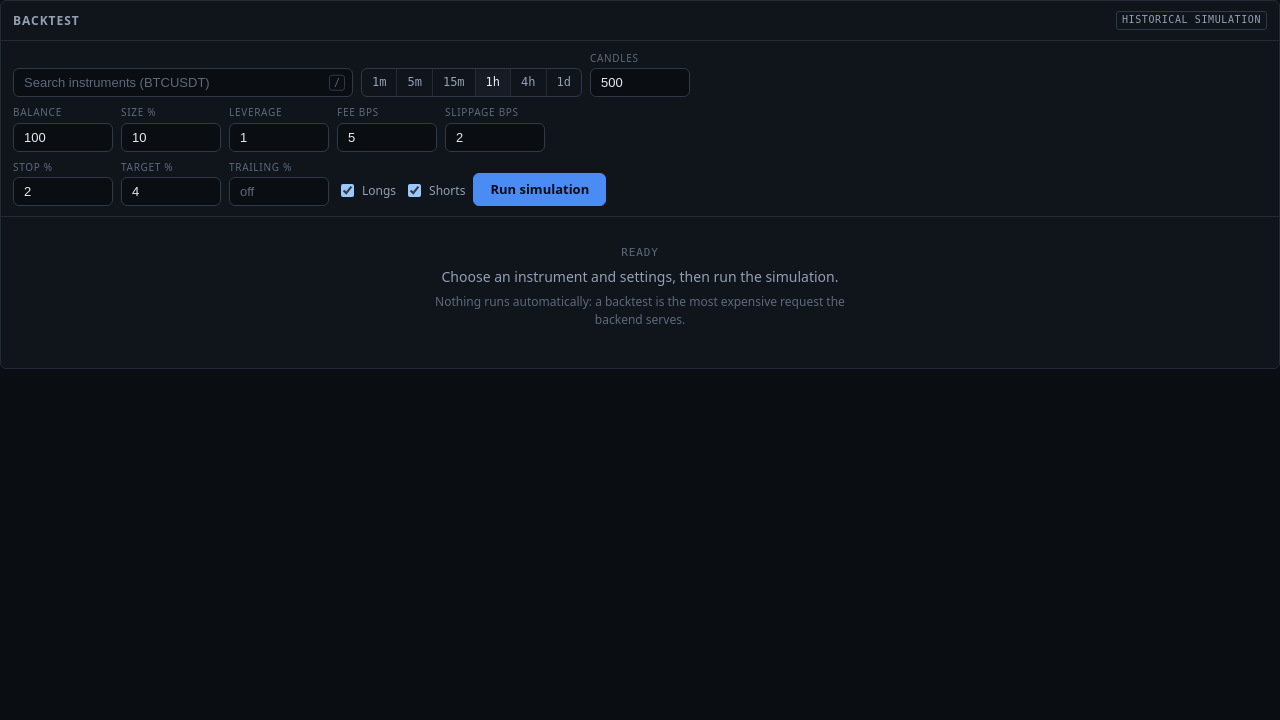
Test: BacktestPage › shows warnings next to the numbers, not hidden
Click the button "Run simulation". click: (540, 190)
box: [473,173,606,206]
(page scrolled)
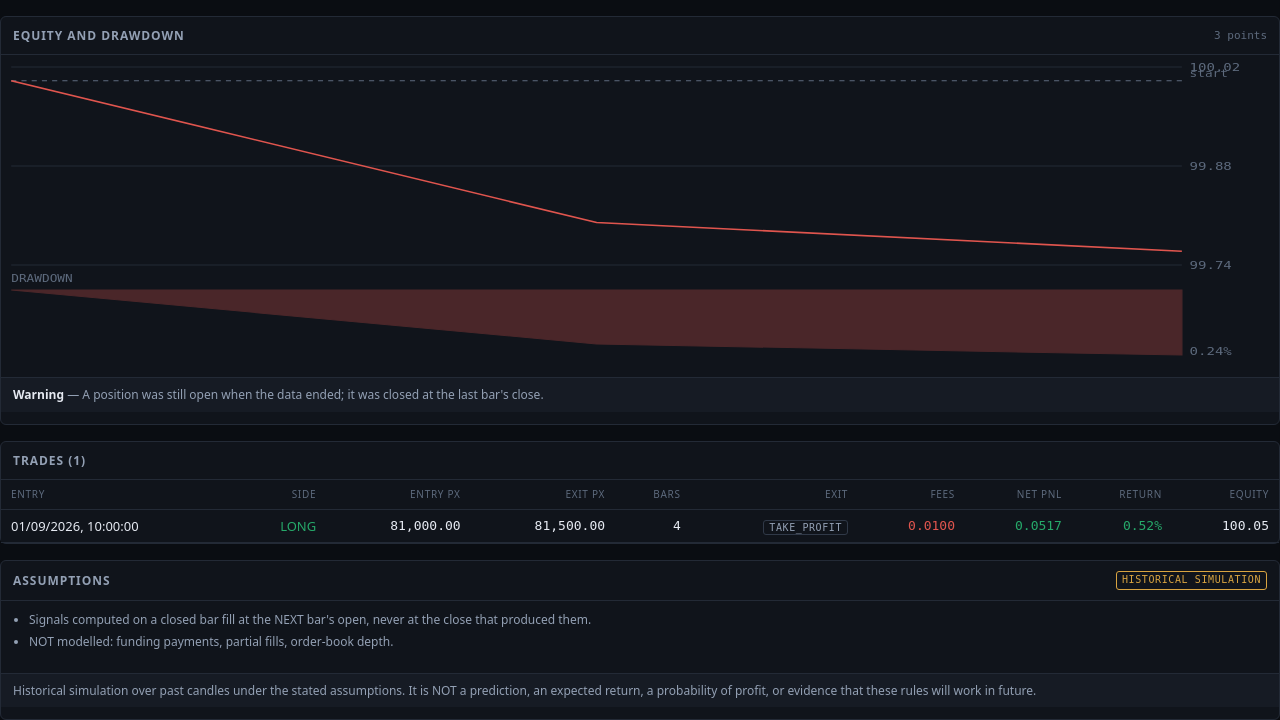
Now the text "still open when the data ended" is shown, box [82,386,544,403]
